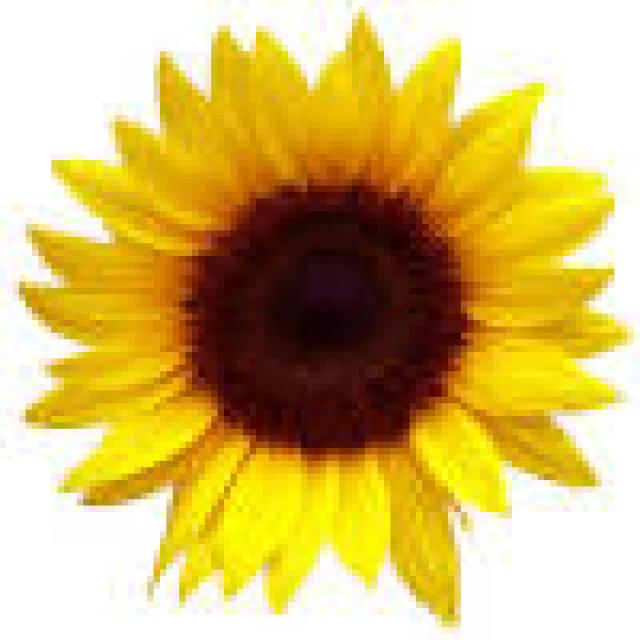sunflower: (19, 22, 634, 637)
